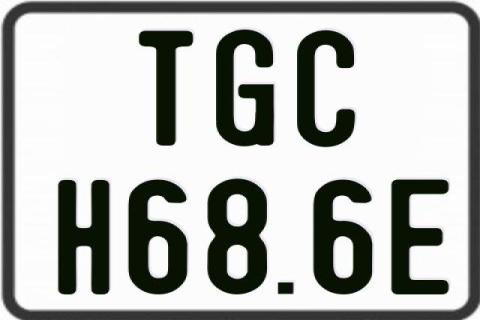0: (204, 178, 270, 298), (126, 177, 188, 297), (312, 177, 374, 297)
C: (295, 28, 354, 150)
E: (390, 179, 451, 297)
G: (215, 30, 273, 150)
H: (57, 178, 109, 298)
T: (138, 29, 193, 144)
